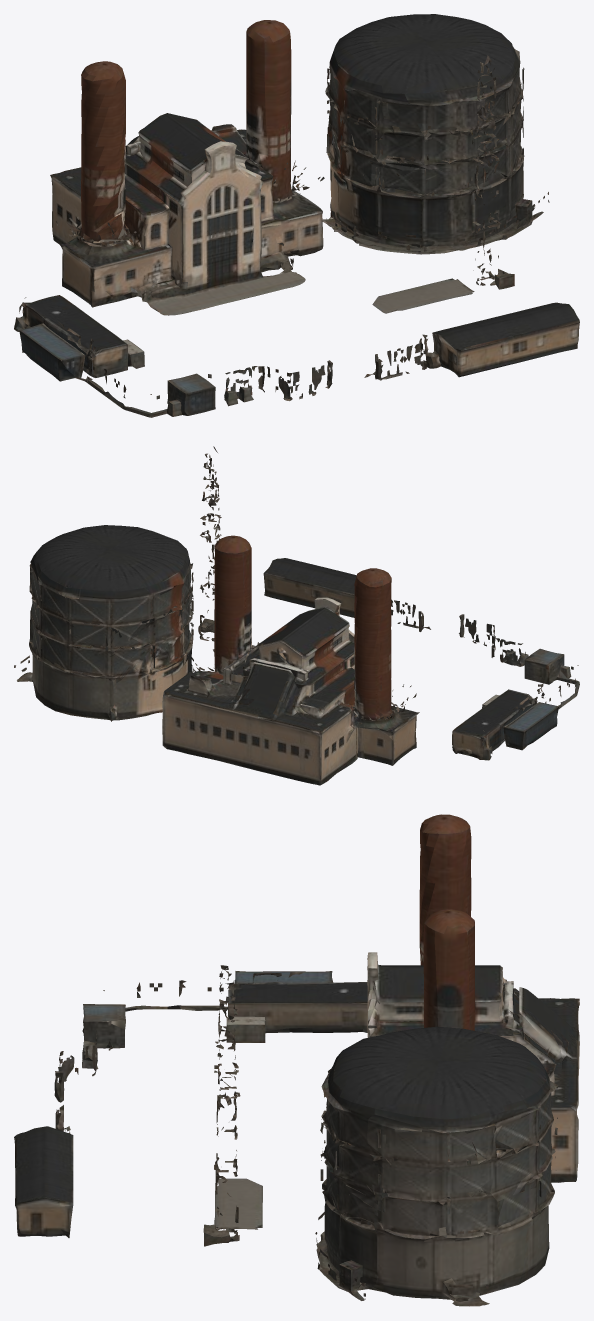
File: suvilahti-kattilahalli-v01.glb
The picture shows the model from 3 angles, top to bottom: view 1: azimuth 30°, elevation 25°; view 2: azimuth 150°, elevation 25°; view 3: azimuth 270°, elevation 25°; orthographic projection. The views are drawn at different scales.
Visible parts, largest first — view 1: Mesh0; view 2: Mesh0; view 3: Mesh0.
Boxes of the visible parts, box(x1,y1,x2,y2) form: Mesh0: box(14, 14, 579, 417); Mesh0: box(14, 446, 579, 785); Mesh0: box(14, 814, 579, 1306).
Bounding box in the file's own units: 1.9 × 0.7706 × 1.47.
Materials: 1 (1 with a texture image).
